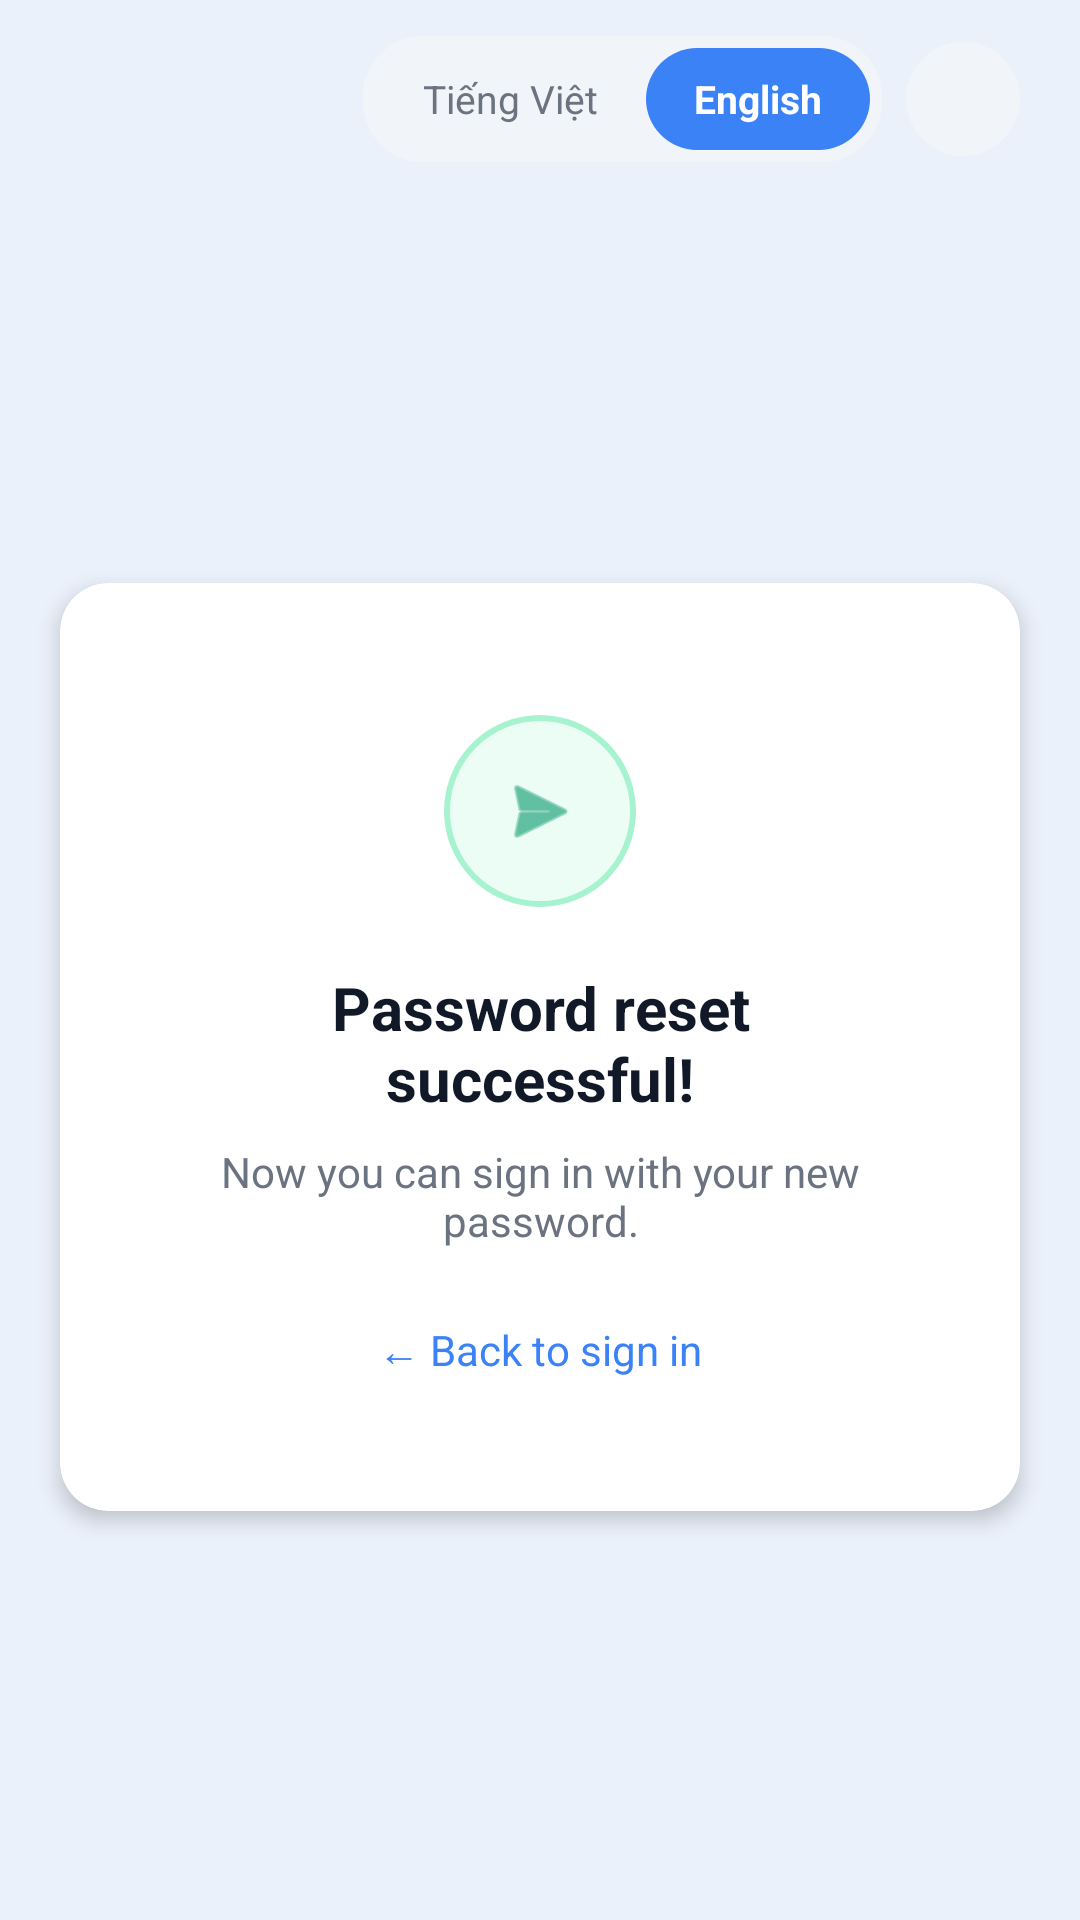

Icons on this 1080*1920 Android screen, each with the point to tap as (x,y):
send: (541,811)
